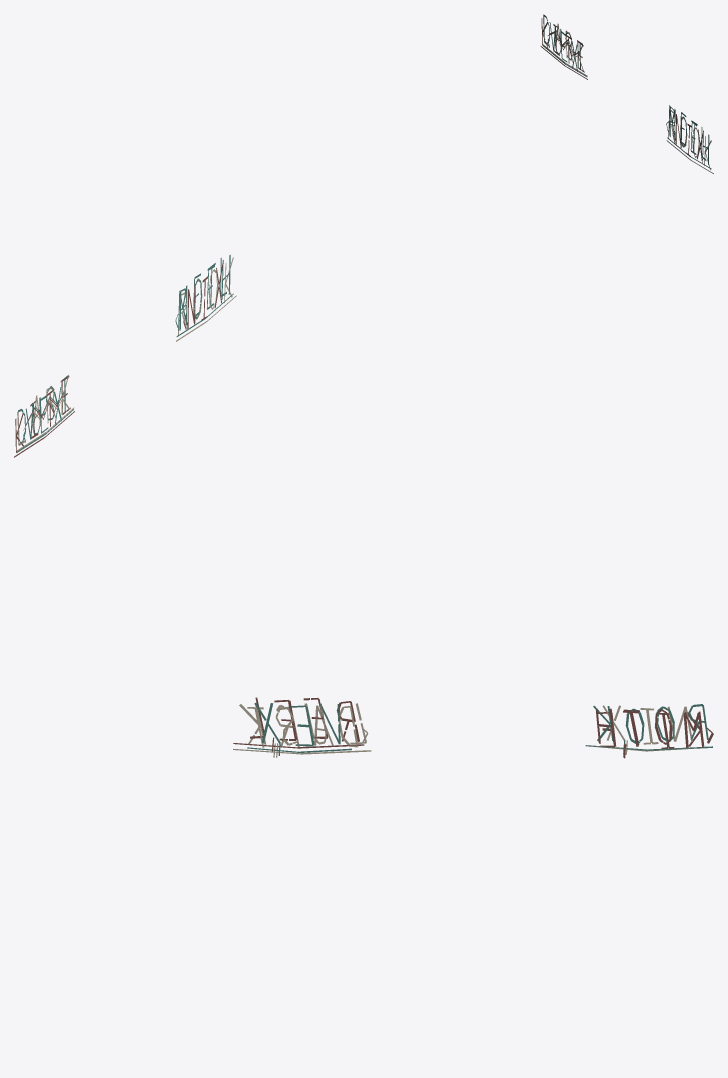
The model's file is exterior-graffiti.glb.
3 views of the same model, one above another, from view 1: azimuth 30°, elevation 25°; view 2: azimuth 150°, elevation 25°; view 3: azimuth 270°, elevation 25° (orthographic). The views are drawn at different scales.
Parts seen in each view (by area): view 1: exterior_graffiti_south, exterior_graffiti_west, exterior_graffiti_east, exterior_graffiti_north; view 2: exterior_graffiti_south, exterior_graffiti_north, exterior_graffiti_west, exterior_graffiti_east; view 3: exterior_graffiti_north, exterior_graffiti_south, exterior_graffiti_west, exterior_graffiti_east.
Boxes of the visible parts, bbox=[...] form: exterior_graffiti_south: bbox=[540, 18, 711, 169]; exterior_graffiti_west: bbox=[548, 22, 713, 173]; exterior_graffiti_east: bbox=[542, 14, 706, 160]; exterior_graffiti_north: bbox=[542, 16, 702, 162]; exterior_graffiti_south: bbox=[14, 254, 233, 457]; exterior_graffiti_north: bbox=[17, 263, 223, 451]; exterior_graffiti_west: bbox=[23, 257, 236, 442]; exterior_graffiti_east: bbox=[16, 257, 226, 452]; exterior_graffiti_north: bbox=[247, 703, 712, 757]; exterior_graffiti_south: bbox=[247, 703, 712, 757]; exterior_graffiti_west: bbox=[233, 697, 696, 754]; exterior_graffiti_east: bbox=[233, 703, 713, 758].
Bounding box in the file's own units: 8.88 × 0.8242 × 8.55.
